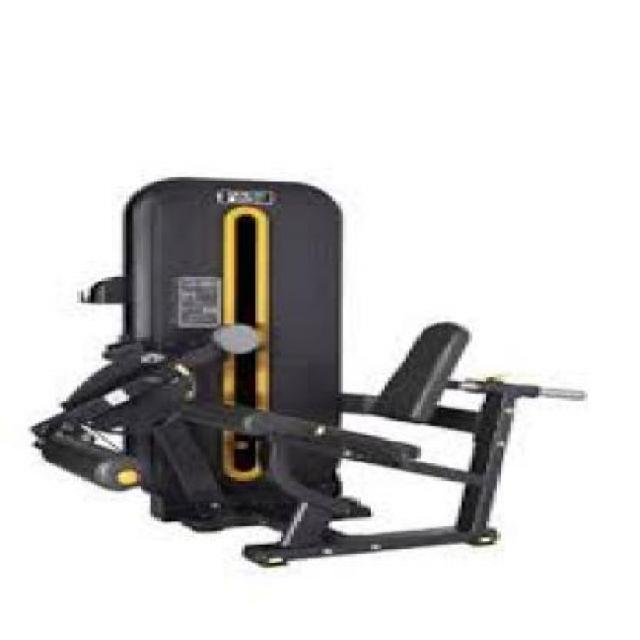leg extension: (24, 169, 596, 585)
